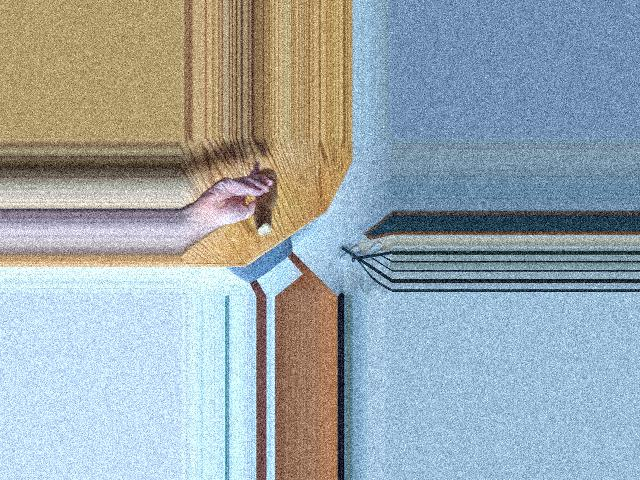sweet_potato: (249, 174, 280, 230)
